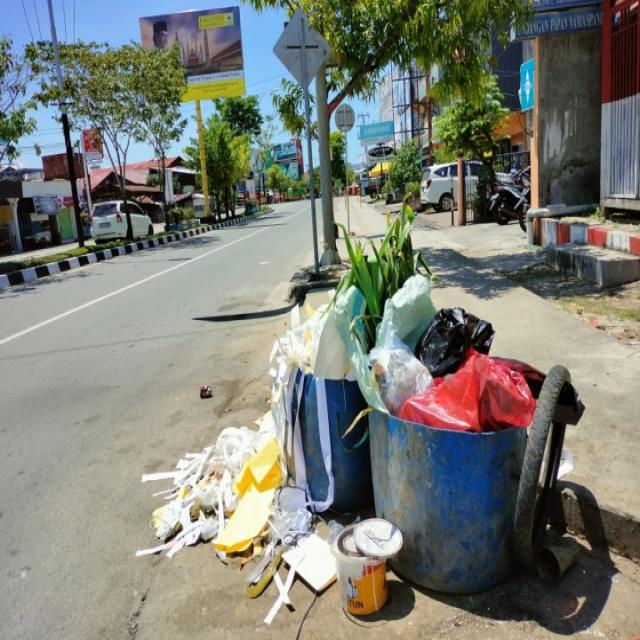sampah-detection: (123, 400, 336, 608), (351, 269, 539, 441), (267, 274, 380, 389), (325, 512, 412, 634)
